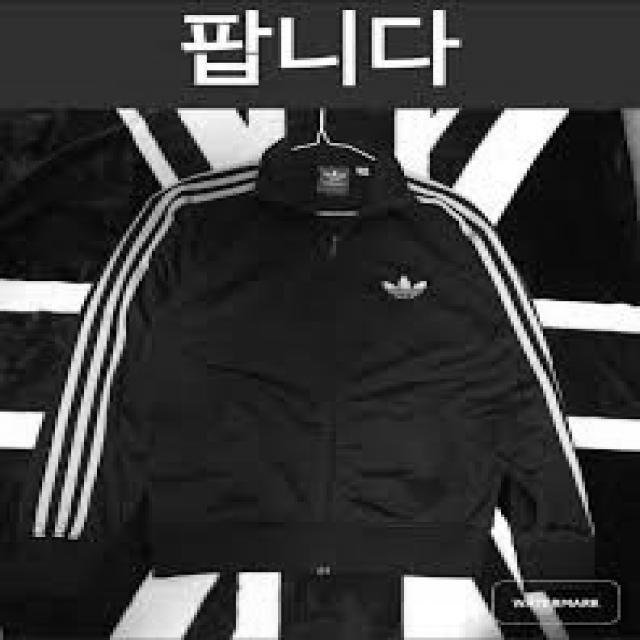Adidas: (372, 269, 436, 309), (314, 163, 349, 193)
